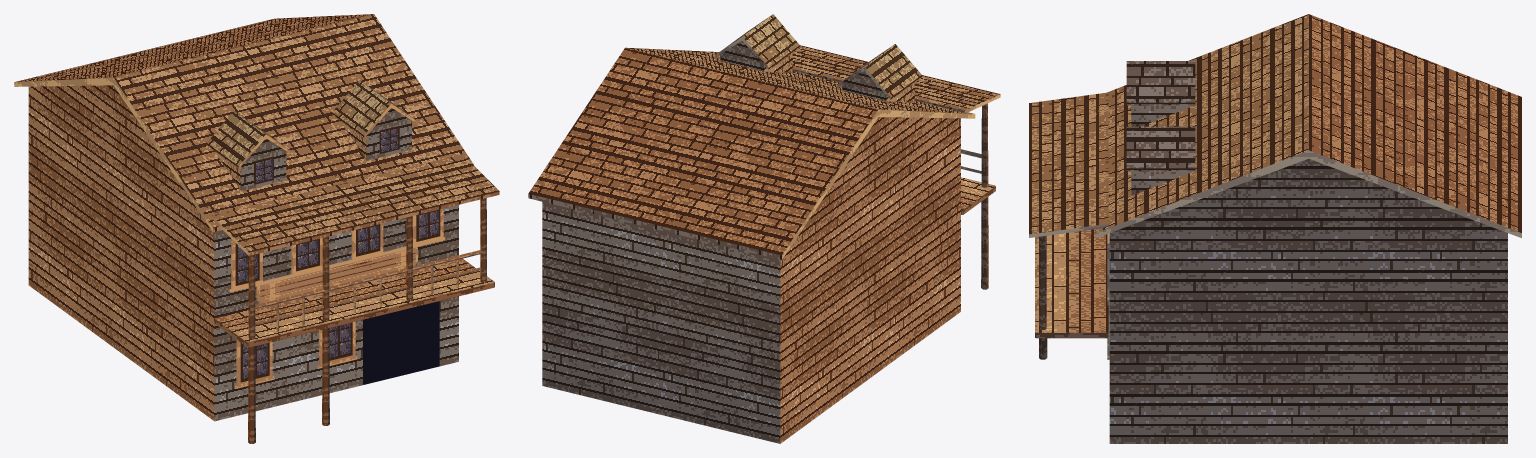
Rendered from wtown.hotel__entry.glb.
The picture shows the model from 3 angles, left to right: view 1: azimuth 30°, elevation 25°; view 2: azimuth 150°, elevation 25°; view 3: azimuth 270°, elevation 25°; orthographic projection. The views are drawn at different scales.
Visible parts, largest first — view 1: kit_body, kit_roof, kit_veranda, kit_card_panes, kit_veranda_roof, kit_dormer_roofs, kit_dormers, kit_windows, kit_trim; view 2: kit_body, kit_roof, kit_dormer_roofs, kit_veranda_roof, kit_veranda, kit_dormers; view 3: kit_body, kit_roof, kit_veranda_roof, kit_veranda, kit_dormer_roofs, kit_dormers.
Part boxes in pixels (x1,y1,x2,y2): kit_body: (28,85,458,421); kit_roof: (14,14,473,232); kit_veranda: (214,198,494,443); kit_card_panes: (235,126,440,384); kit_veranda_roof: (211,154,499,255); kit_dormer_roofs: (206,80,418,168); kit_dormers: (215,108,411,191); kit_windows: (229,208,445,388); kit_trim: (256,246,417,303); kit_body: (542,117,960,443); kit_roof: (528,47,975,259); kit_dormer_roofs: (715,14,921,99); kit_veranda_roof: (793,45,1000,112); kit_veranda: (961,103,995,289); kit_dormers: (720,41,914,102); kit_body: (1109,158,1507,443); kit_roof: (1095,14,1521,238); kit_veranda_roof: (1029,92,1108,237); kit_veranda: (1035,229,1108,359); kit_dormer_roofs: (1126,61,1195,170); kit_dormers: (1131,105,1194,195).
Size of the model in its own units: 8.1 by 8.25 by 12.37.
10 materials, 10 textured.
